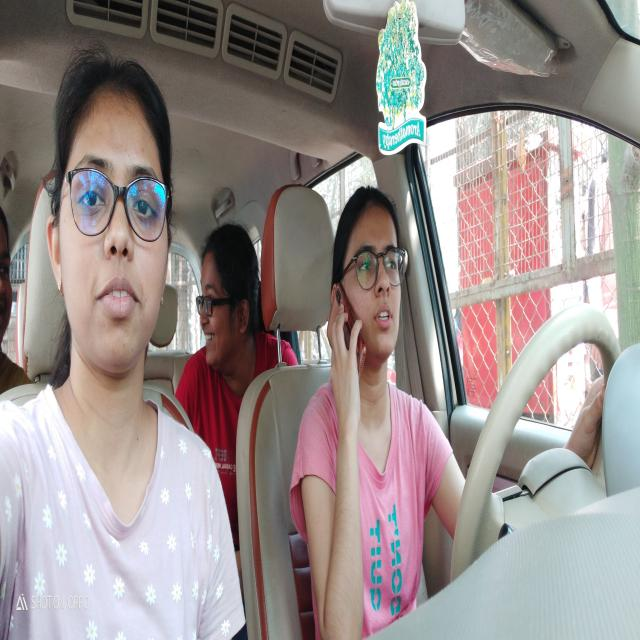mobile: (326, 286, 369, 389)
person: (50, 55, 170, 366), (336, 192, 408, 358), (196, 243, 254, 364), (0, 203, 20, 349)
